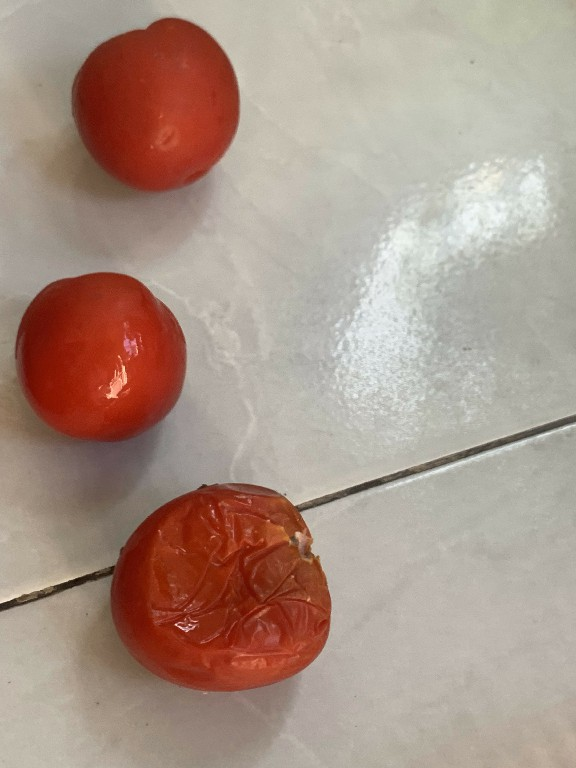NG: (84, 468, 351, 696)
OK: (54, 6, 266, 204), (6, 249, 189, 452)
